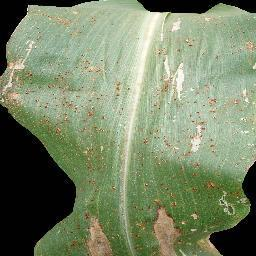Corn_Common_Rust: (0, 49, 256, 127), (18, 128, 254, 180), (0, 0, 256, 47), (28, 213, 250, 256), (69, 180, 254, 213)
